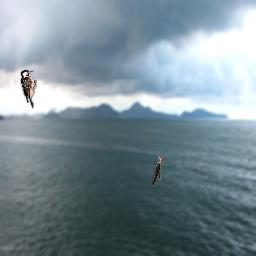Woodpecker: (20, 69, 37, 109), (152, 155, 163, 187)
